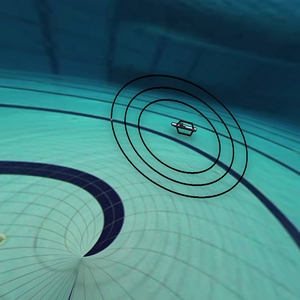circle: (91, 55, 258, 209)
submarine: (165, 115, 203, 146)
